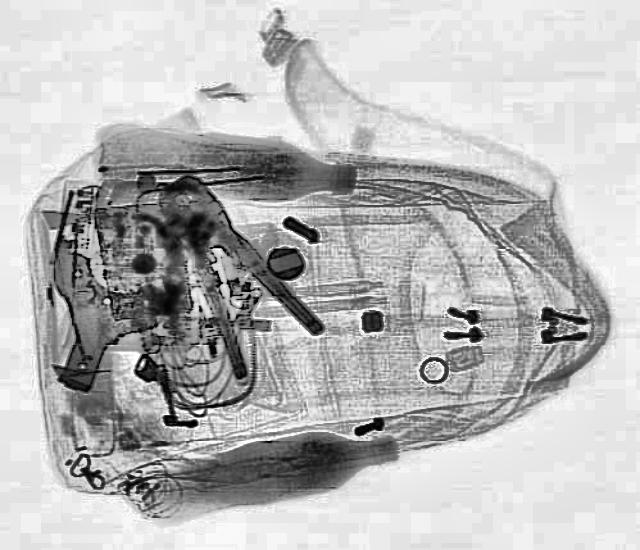Pliers: (117, 163, 331, 379)
